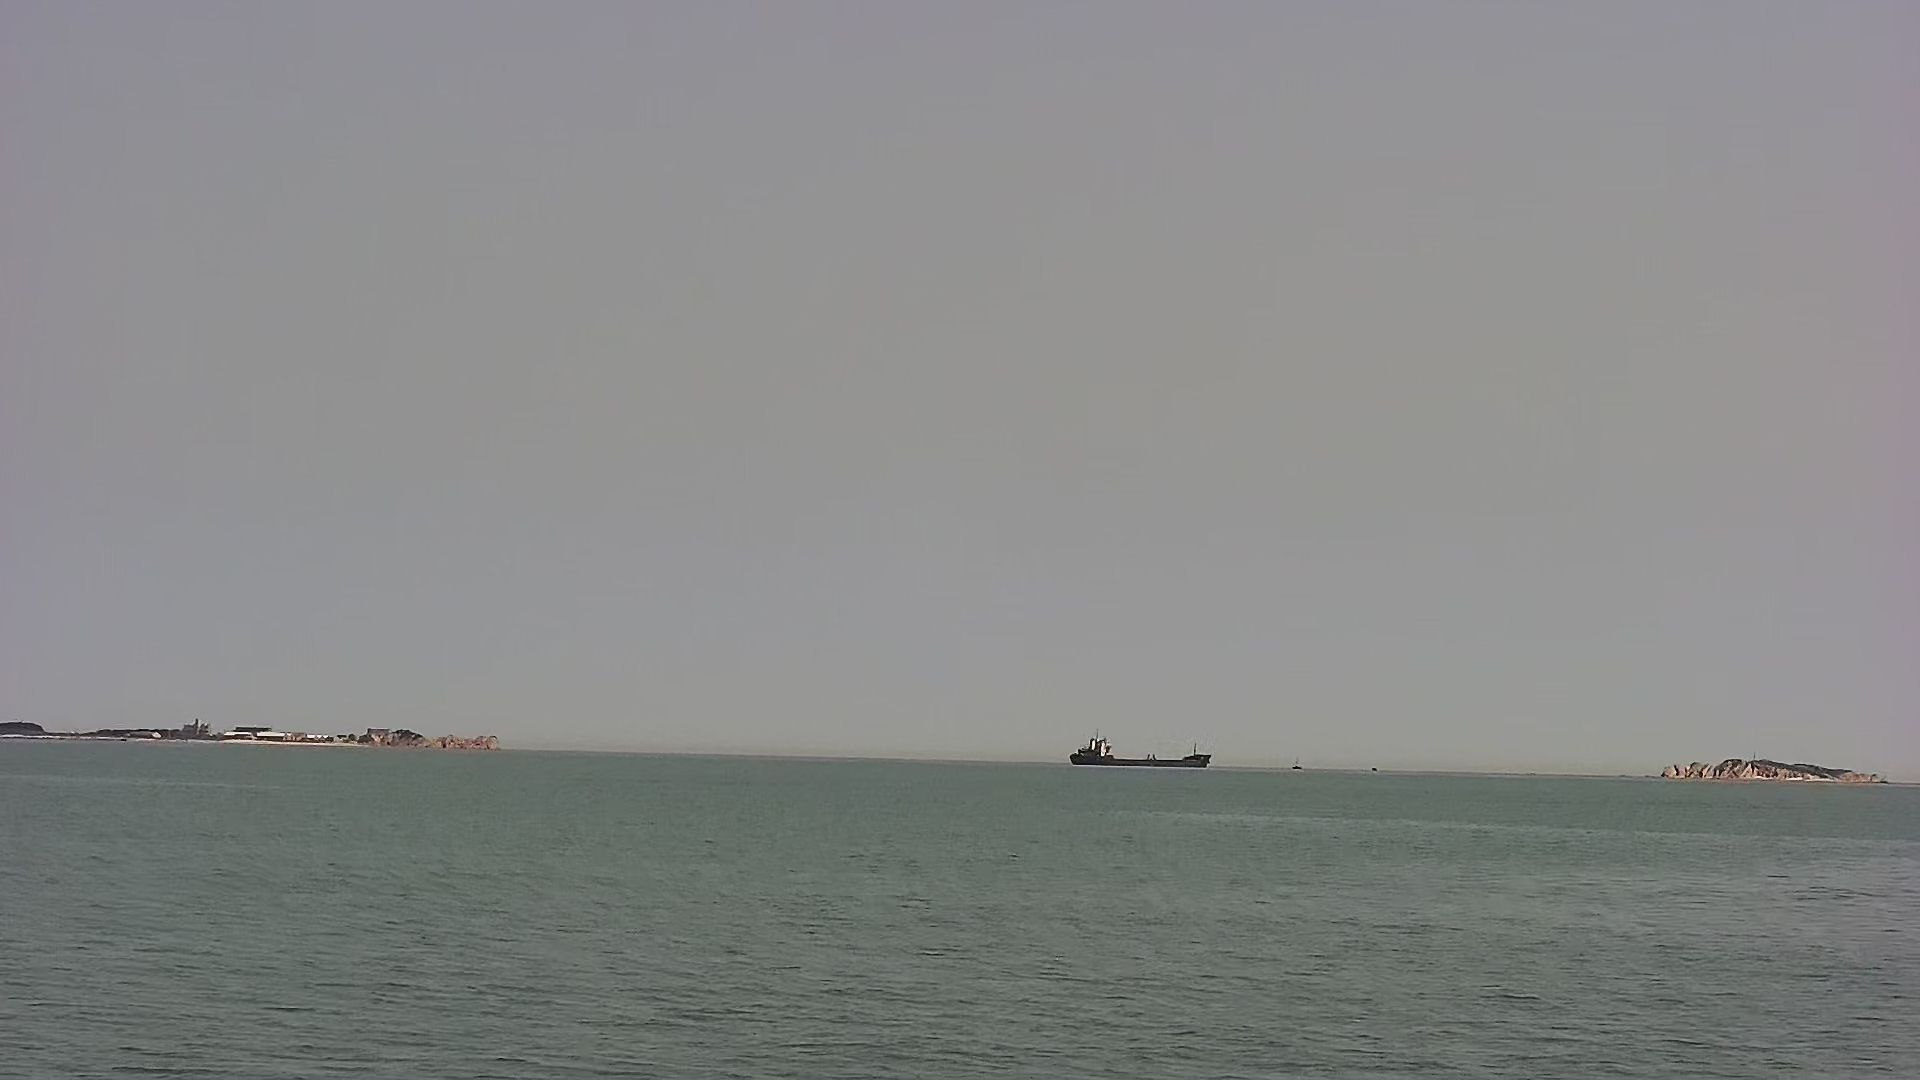rock: (1, 716, 504, 753), (1638, 753, 1896, 785)
ship: (1069, 731, 1217, 771)
